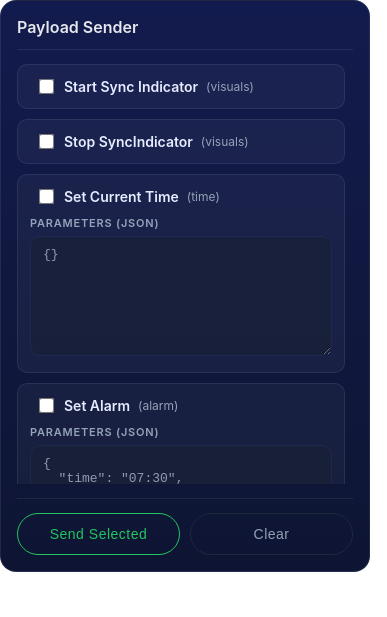
Test: DevTools › Payload Selection and Sending › warns instead of sending when nothing is selected
The width and height of the screenshot is (387, 617).
What coordinates should you click on to do the following:
click the button "Send Selected"
I would click on:
 (98, 534)
Its box is [17,513,180,555].
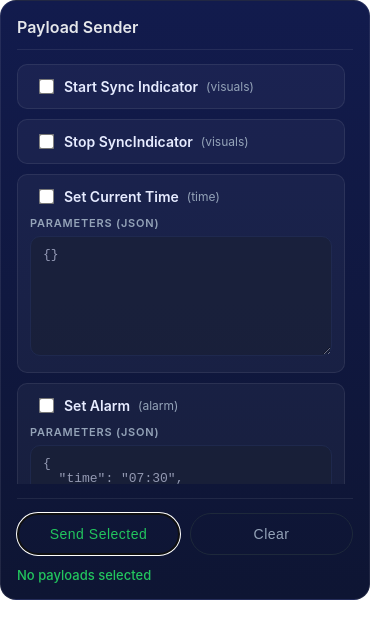
Now the message reads "No payloads selected", box [17,567,151,583]
